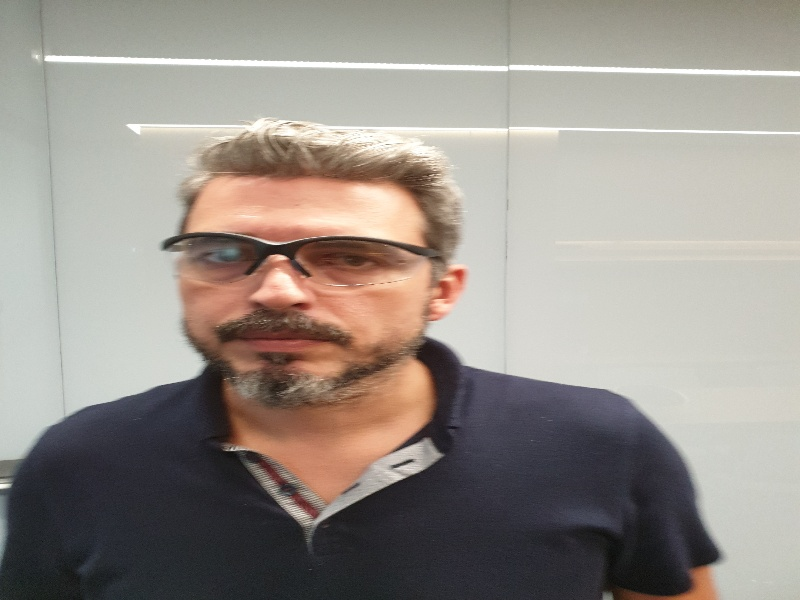Gozluk: (161, 231, 442, 286)
